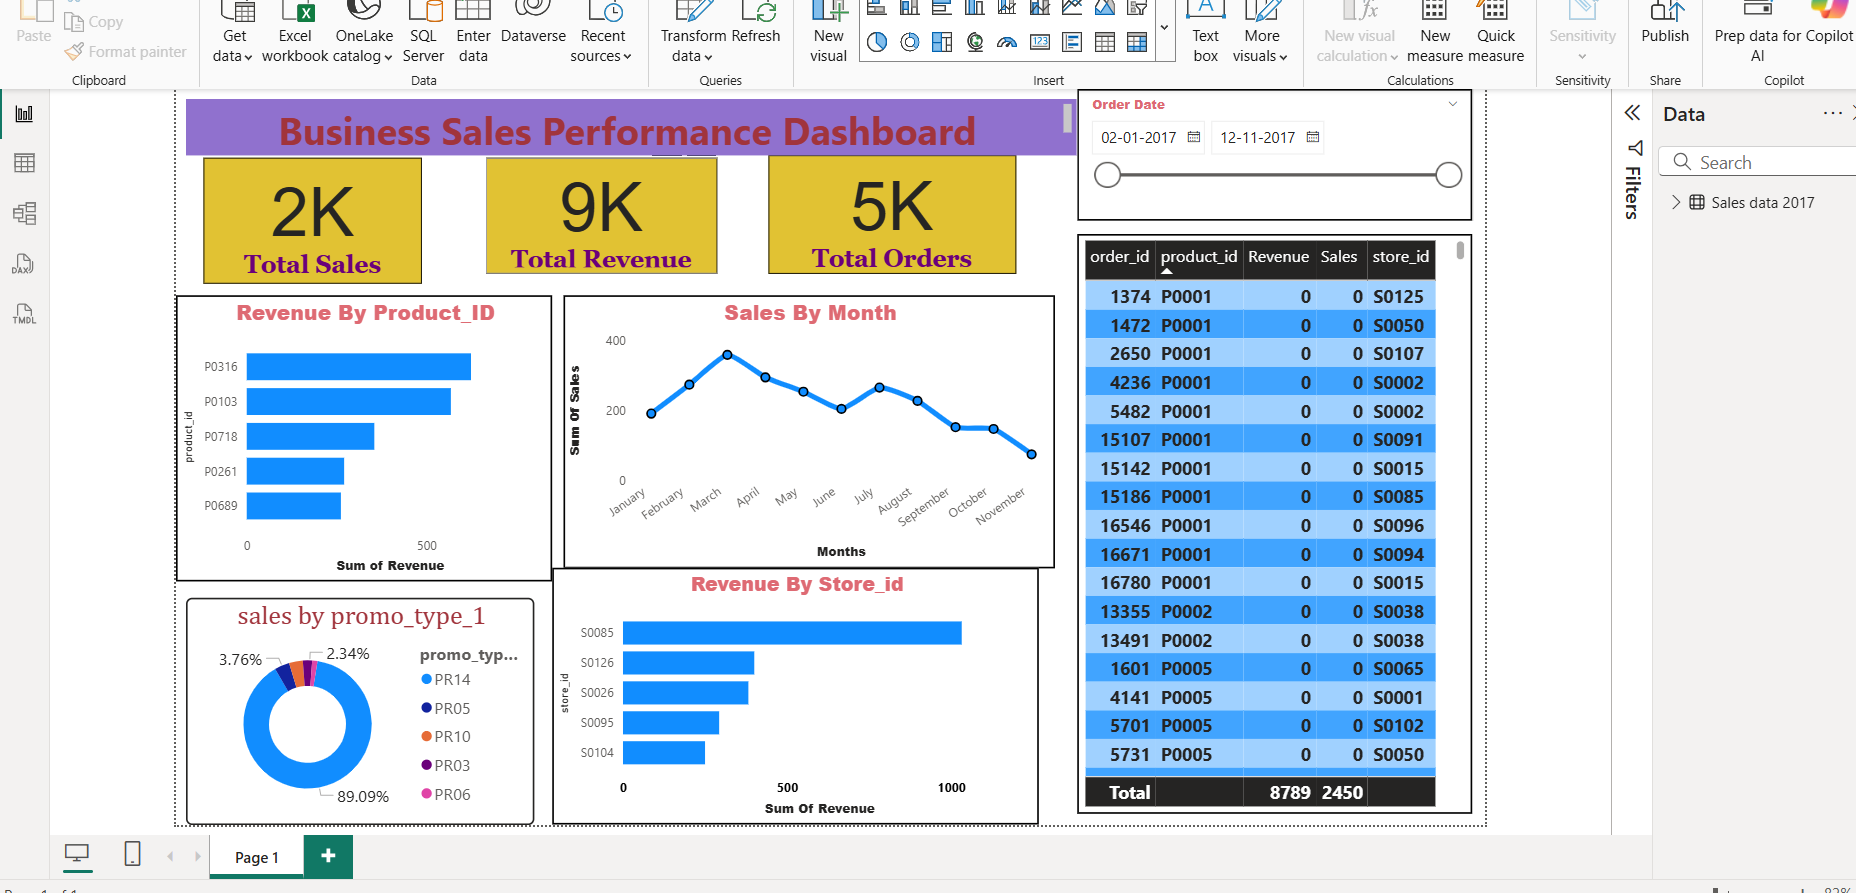

Layout of this report page (visuals, bound fields, positions):
{"tool":"powerbi","page":{"name":"Page 1","canvas":[1280,720],"ordinal":0},"visuals":[{"type":"card","fields":{"Values":["Sum(Sales data 2017.sales)"]},"box":[26.9,67.3,214,123.5],"z":0},{"type":"card","fields":{"Values":["Sum(Sales data 2017.revenue)"]},"box":[303.3,67.3,226.2,113.7],"z":1000},{"type":"card","fields":{"Values":["CountNonNull(Sales data 2017.order_id (unique))"]},"box":[579.6,64.8,242.1,116.2],"z":2000},{"type":"clusteredBarChart","title":" Revenue By Product_ID","fields":{"Category":["Sales data 2017.product_id"],"Y":["Sum(Sales data 2017.revenue)"]},"box":[0,201.8,368.1,280],"z":3000},{"type":"lineChart","title":"Sales By Month","fields":{"Category":["Sales data 2017.order_date.Variation.Date Hierarchy.Month"],"Y":["Sum(Sales data 2017.sales)"]},"box":[379.4,202,480.4,266.9],"z":4000},{"type":"slicer","title":"Order Date","fields":{"Values":["Sales data 2017.order_date"]},"box":[881.5,0,386.7,128.4],"z":5000},{"type":"tableEx","fields":{"Values":["Sales data 2017.order_id (unique)","Sales data 2017.product_id","Sum(Sales data 2017.revenue)","Sum(Sales data 2017.sales)","Sales data 2017.store_id"]},"box":[881.5,141.4,386.7,567],"z":6000},{"type":"barChart","title":"Revenue By Store_id","fields":{"Y":["Sum(Sales data 2017.revenue)"],"Category":["Sales data 2017.store_id"]},"box":[367.9,468.9,476.1,251],"z":7000},{"type":"donutChart","title":"sales by promo_type_1","fields":{"Y":["Sum(Sales data 2017.sales)"],"Category":["Sales data 2017.promo_type_1"]},"box":[9.8,497.7,341.2,222.6],"z":8000},{"type":"textbox","box":[10.1,10.1,871.4,54.8],"z":9000}]}

Visuals, with their boxes on the page's 1280x720 design canvas (x1, y1, x2, y2). These are canvas units, not pixel positions in the 1856x893 screenshot, which may show the page scaled, cropped or inside an application window:
card - Sum(Sales data 2017.sales): bbox(27, 67, 241, 191)
card - Sum(Sales data 2017.revenue): bbox(303, 67, 530, 181)
card - CountNonNull(Sales data 2017.order_id (unique)): bbox(580, 65, 822, 181)
" Revenue By Product_ID" clusteredBarChart: bbox(0, 202, 368, 482)
"Sales By Month" lineChart: bbox(379, 202, 860, 469)
"Order Date" slicer: bbox(882, 0, 1268, 128)
tableEx - Sales data 2017.order_id (unique) x Sales data 2017.product_id: bbox(882, 141, 1268, 708)
"Revenue By Store_id" barChart: bbox(368, 469, 844, 720)
"sales by promo_type_1" donutChart: bbox(10, 498, 351, 720)
textbox: bbox(10, 10, 882, 65)
